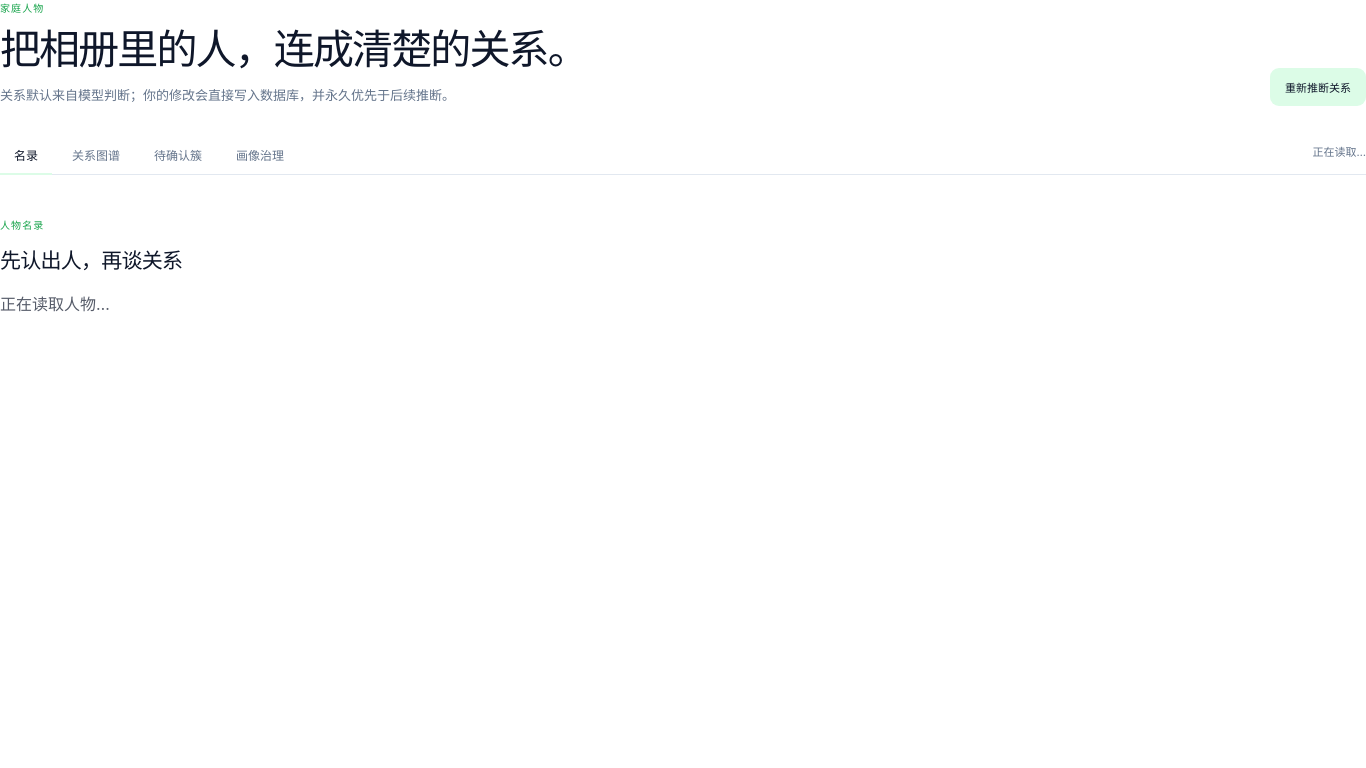
图谱 tab › 0 条边（8 人全 unknown）：8 个节点都画出来，初始变换不是 NaN
The image size is (1366, 768).
Click the tab "关系图谱" at (96, 156), box [58,136,134,175]
(page scrolled)
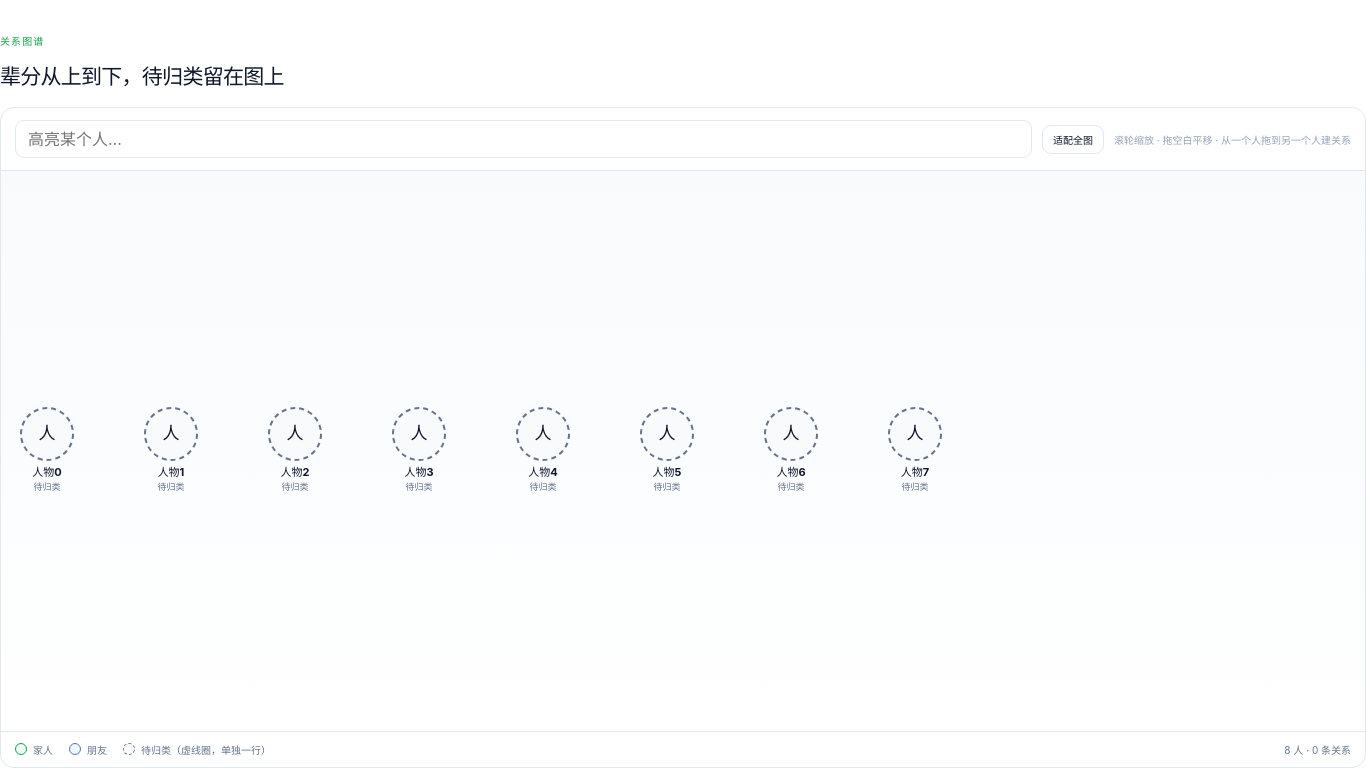
Expected: the icon with class "graph-svg" is shown
